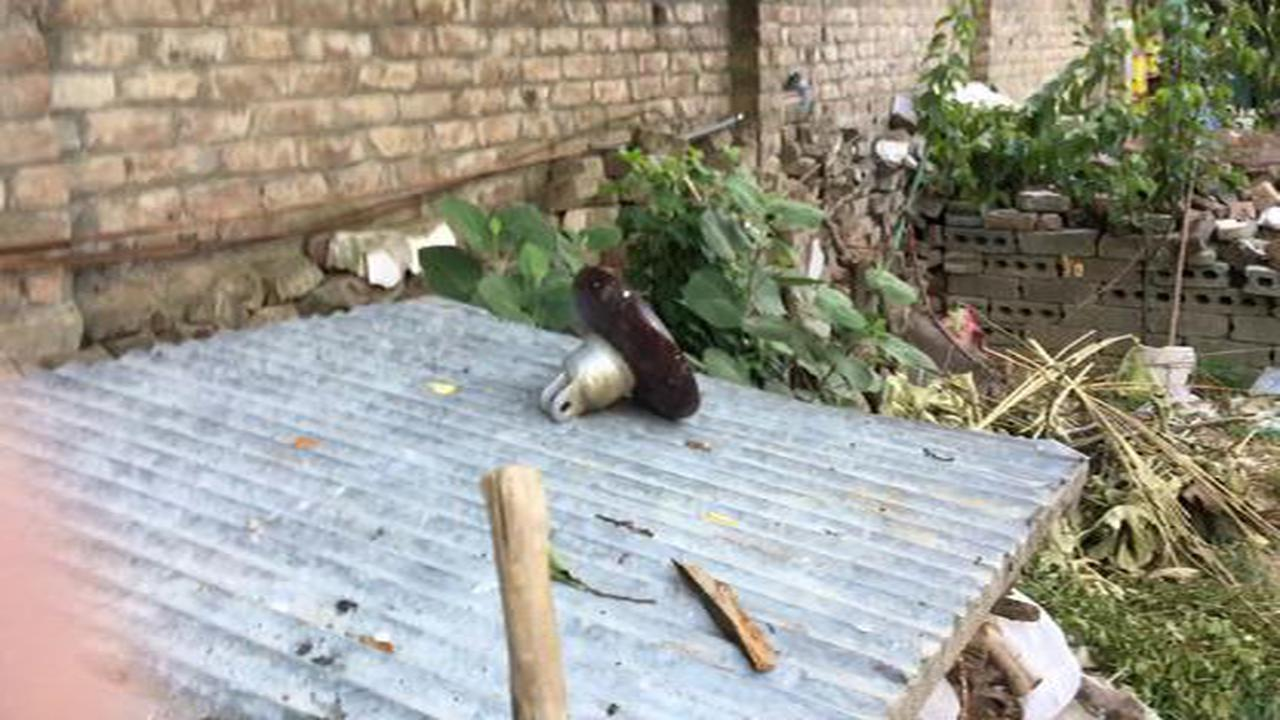insulator_disc: (537, 263, 706, 434)
